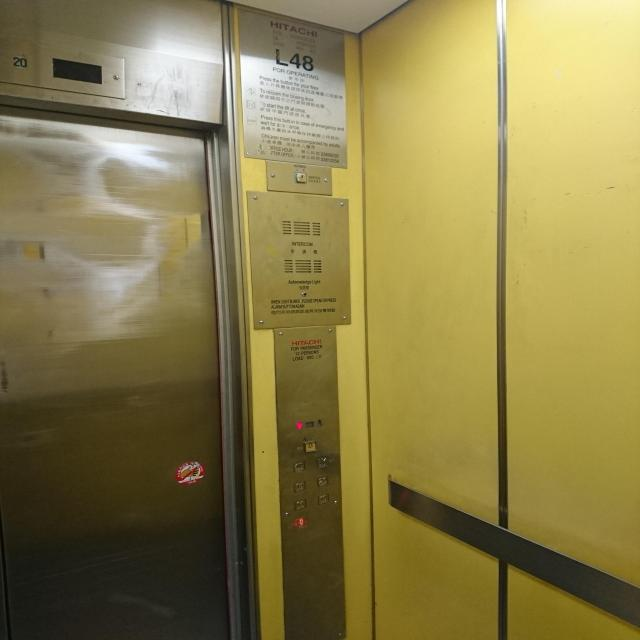14: (294, 498, 306, 511)
16: (293, 480, 306, 493)
18: (316, 492, 329, 506)
20: (316, 475, 329, 488)
G: (294, 516, 308, 530)
alarm: (304, 439, 318, 454)
close: (316, 456, 328, 469)
open: (292, 460, 306, 473)
